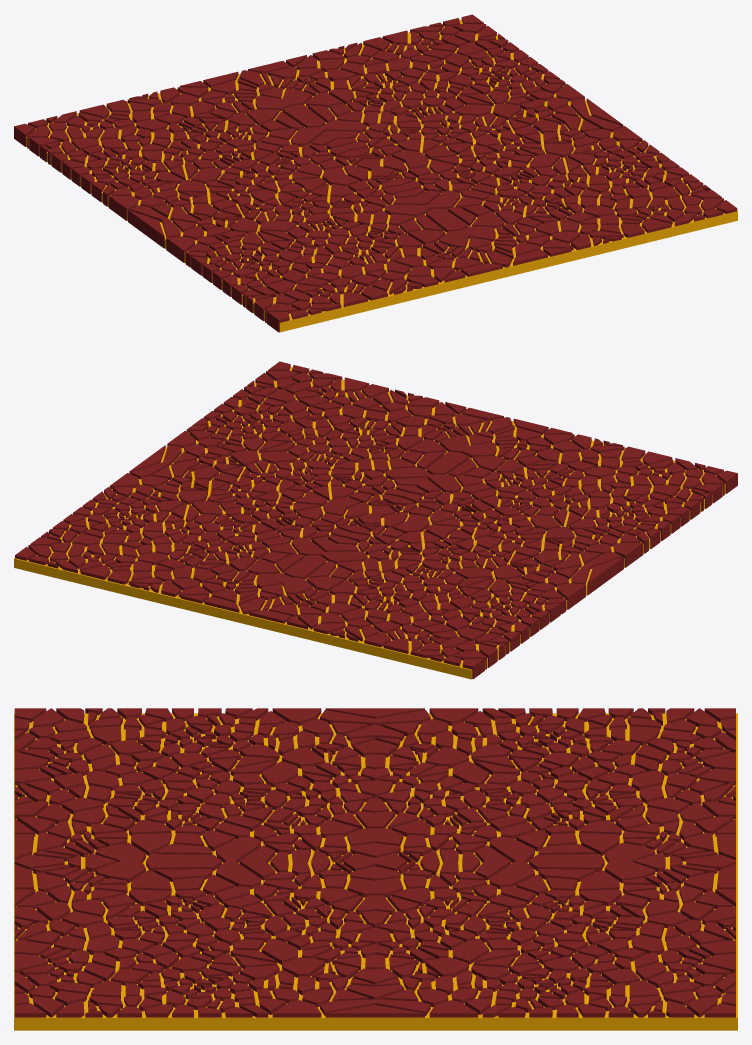
Rendered from lavaFloor01.fbx.
3 views of the same model, one above another, from view 1: azimuth 30°, elevation 25°; view 2: azimuth 150°, elevation 25°; view 3: azimuth 270°, elevation 25° (orthographic). The views are drawn at different scales.
Visible parts, largest first — view 1: tinker:group_0_4523012, tinker:group_0_16741120; view 2: tinker:group_0_4523012, tinker:group_0_16741120; view 3: tinker:group_0_4523012, tinker:group_0_16741120.
Part boxes in pixels (left/top/right/bottom): tinker:group_0_4523012: left=14, top=14, right=737, bottom=332; tinker:group_0_16741120: left=26, top=19, right=737, bottom=332; tinker:group_0_4523012: left=15, top=361, right=737, bottom=679; tinker:group_0_16741120: left=14, top=367, right=725, bottom=679; tinker:group_0_4523012: left=14, top=708, right=735, bottom=1017; tinker:group_0_16741120: left=14, top=713, right=737, bottom=1030.
Bounding box in the file's own units: 621 × 16 × 623.
